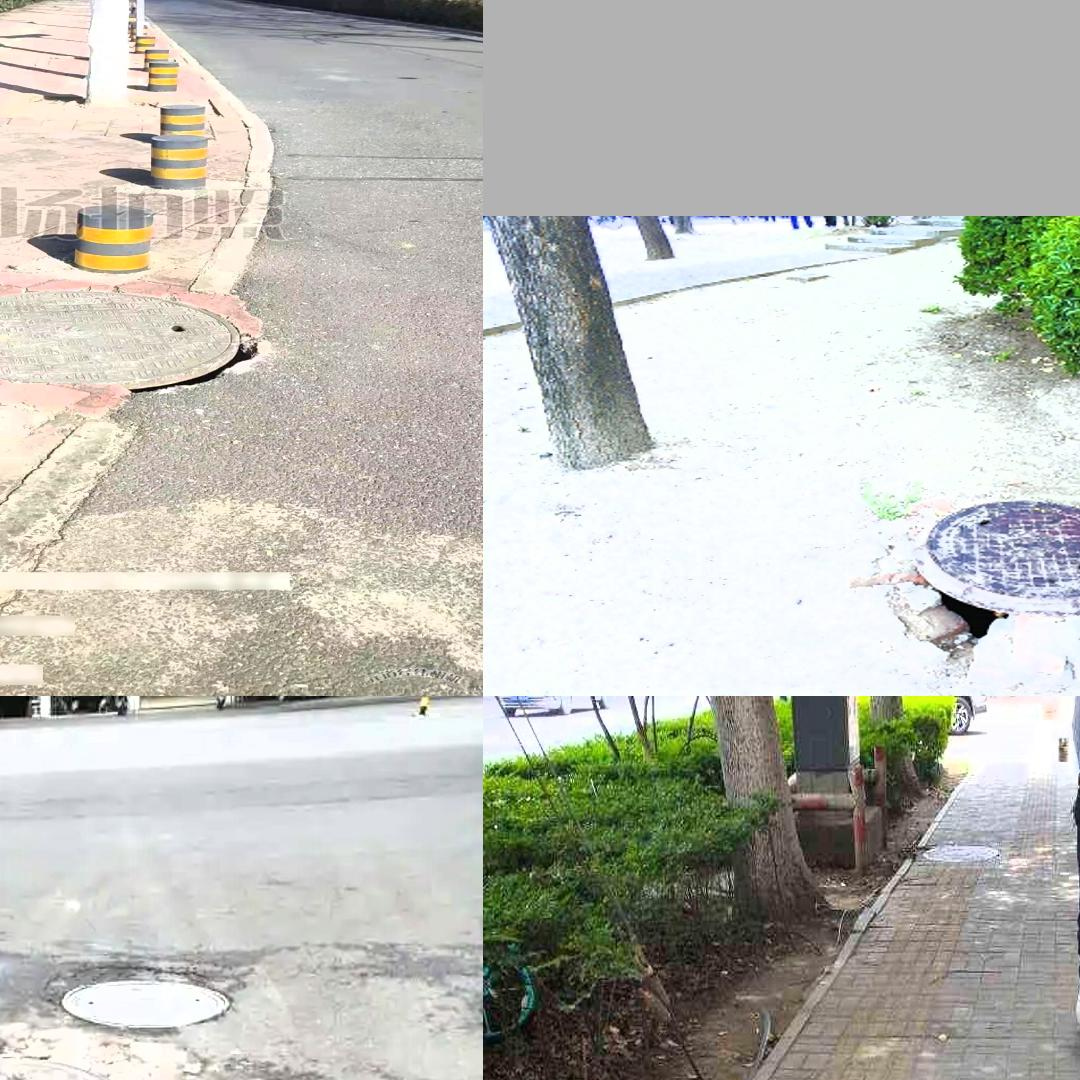circle: (827, 493, 1080, 673), (0, 282, 267, 401), (0, 1021, 172, 1080)
